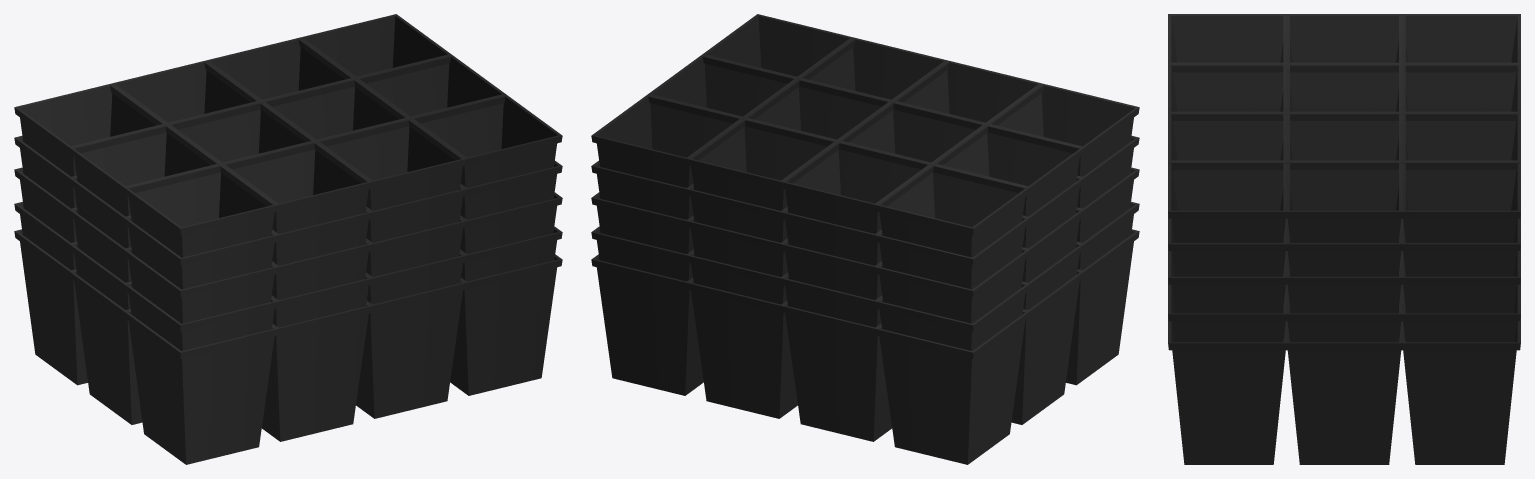
File: FlowerBedStack.fbx
The picture shows the model from 3 angles, left to right: view 1: azimuth 30°, elevation 25°; view 2: azimuth 150°, elevation 25°; view 3: azimuth 270°, elevation 25°; orthographic projection. The views are drawn at different scales.
Visible parts, largest first — view 1: FlowerBedStack; view 2: FlowerBedStack; view 3: FlowerBedStack.
Boxes of the visible parts, x1,y1,x2,y2 form: FlowerBedStack: (14,14,562,464); FlowerBedStack: (591,14,1139,464); FlowerBedStack: (1168,14,1520,464).
Size of the model in its own units: 0.4411 by 0.2702 by 0.3324.
